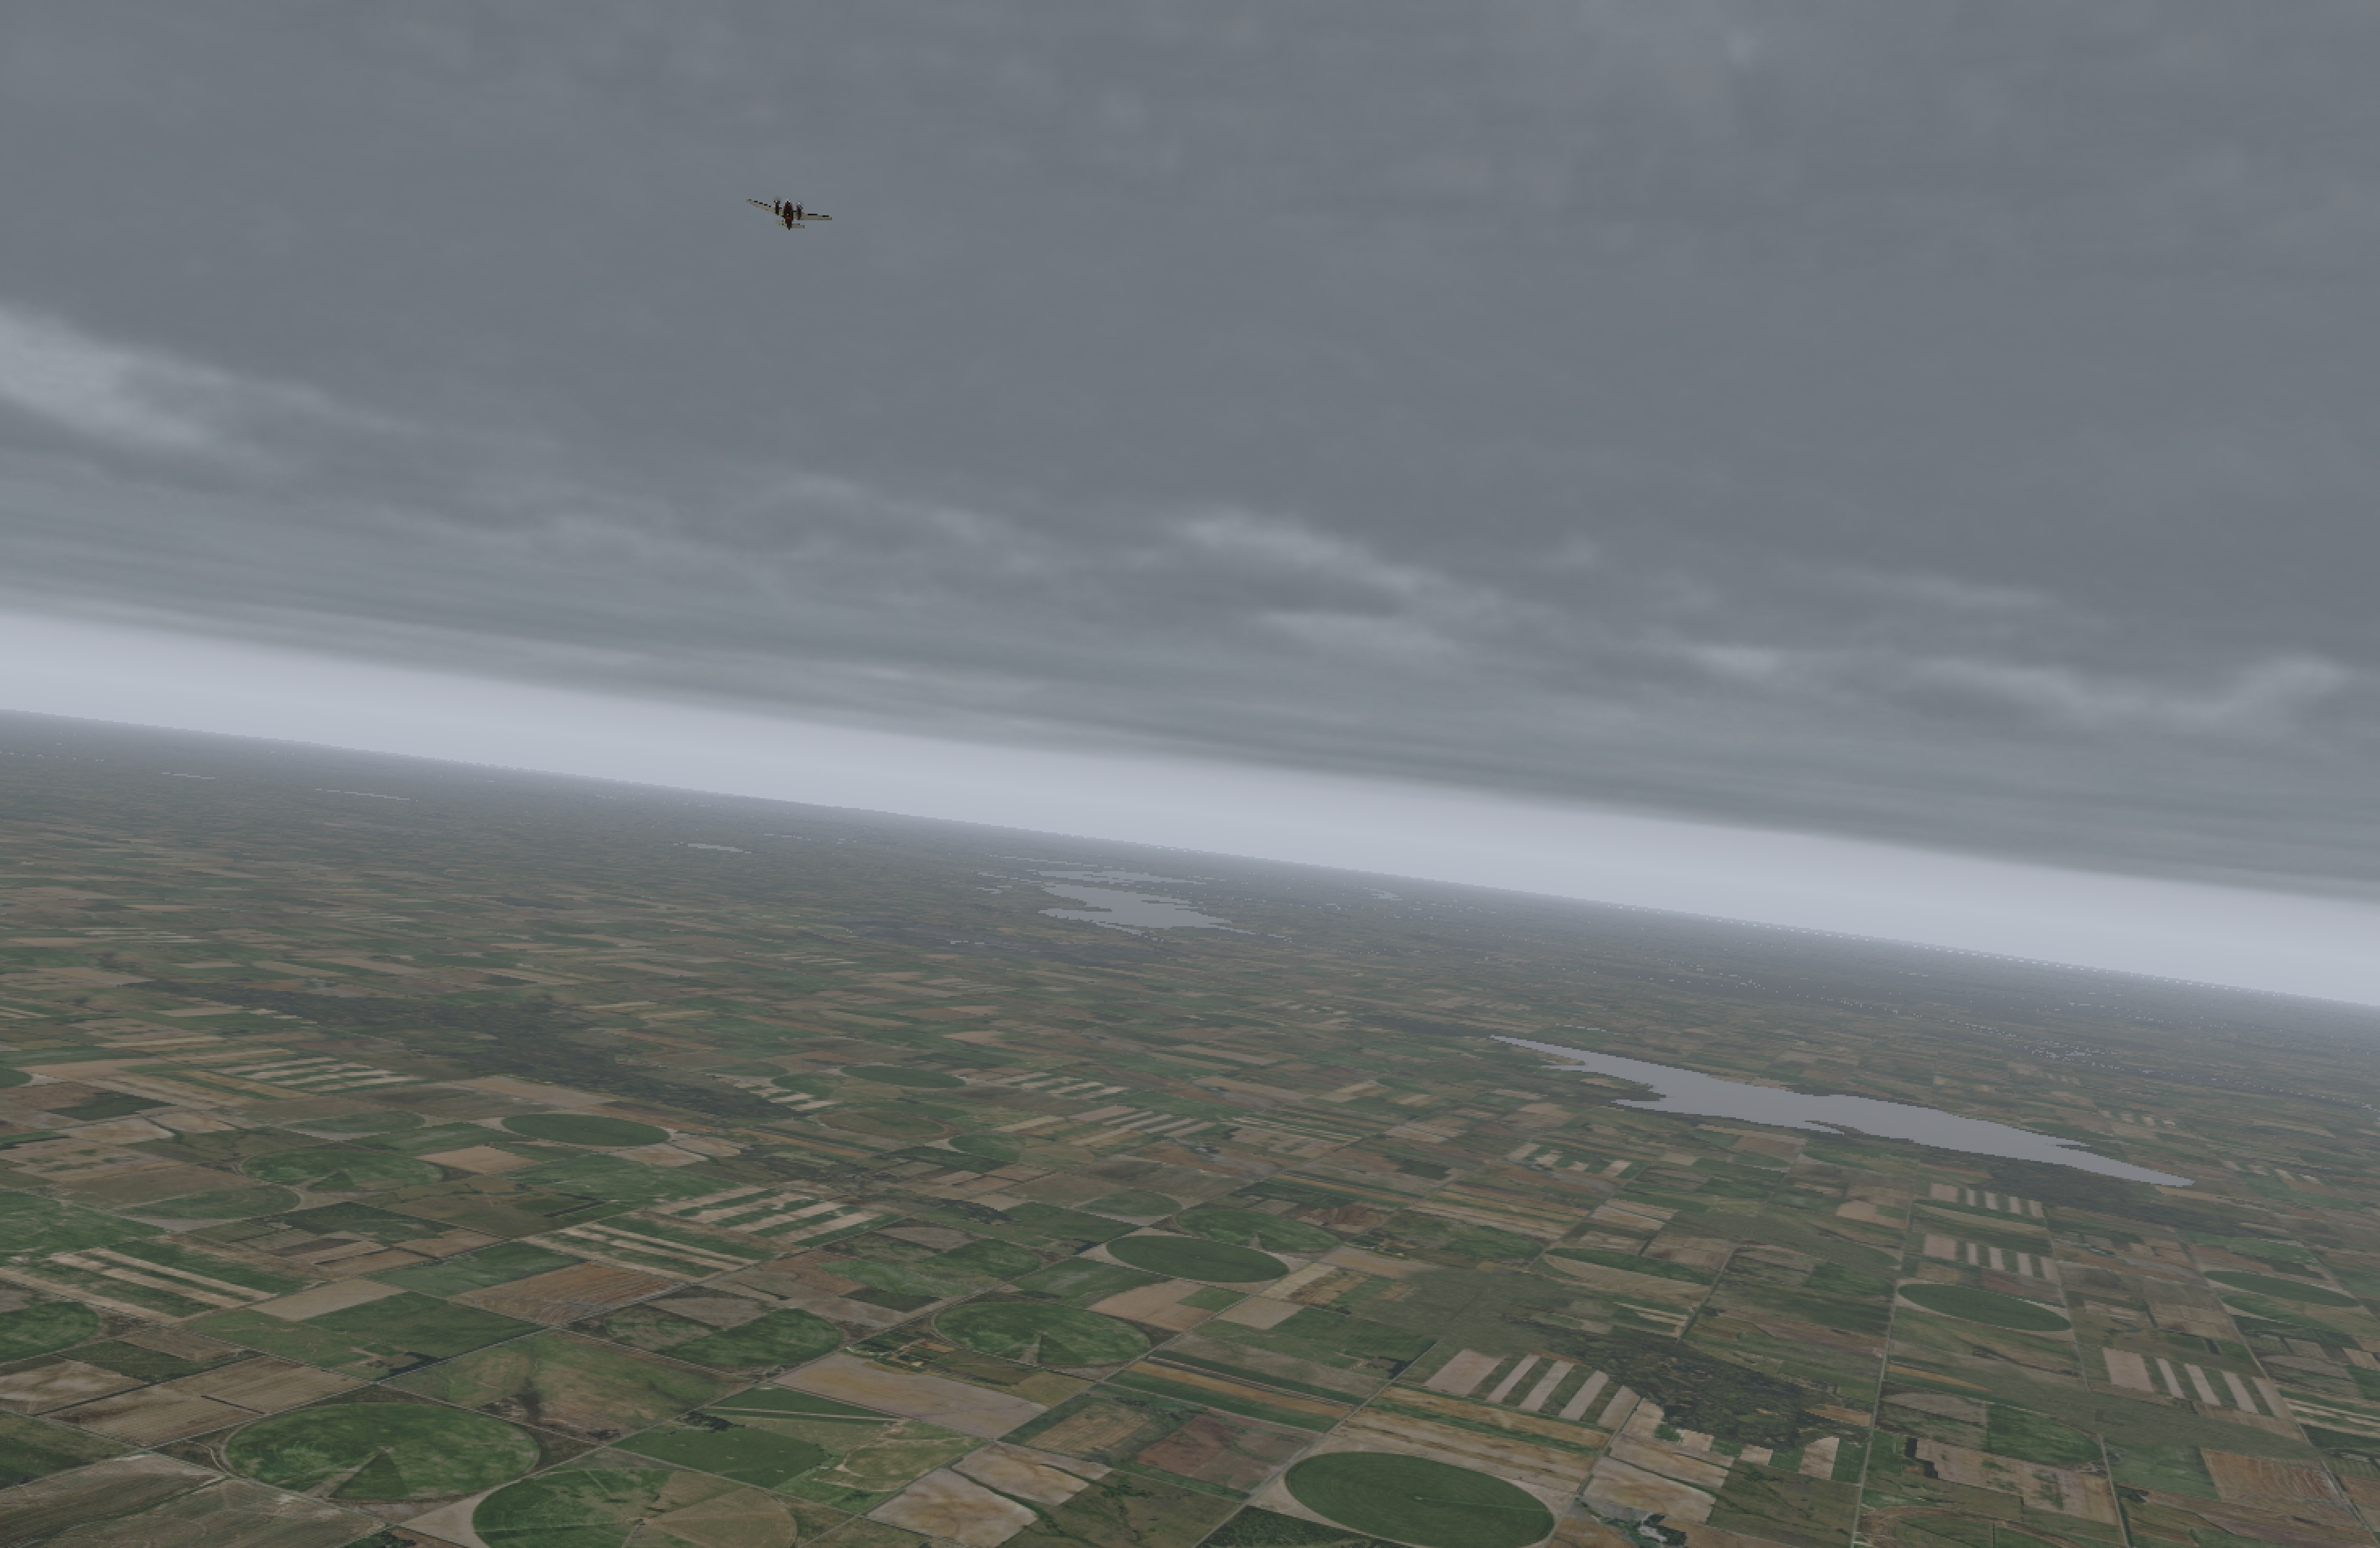aircraft: (746, 196, 829, 227)
